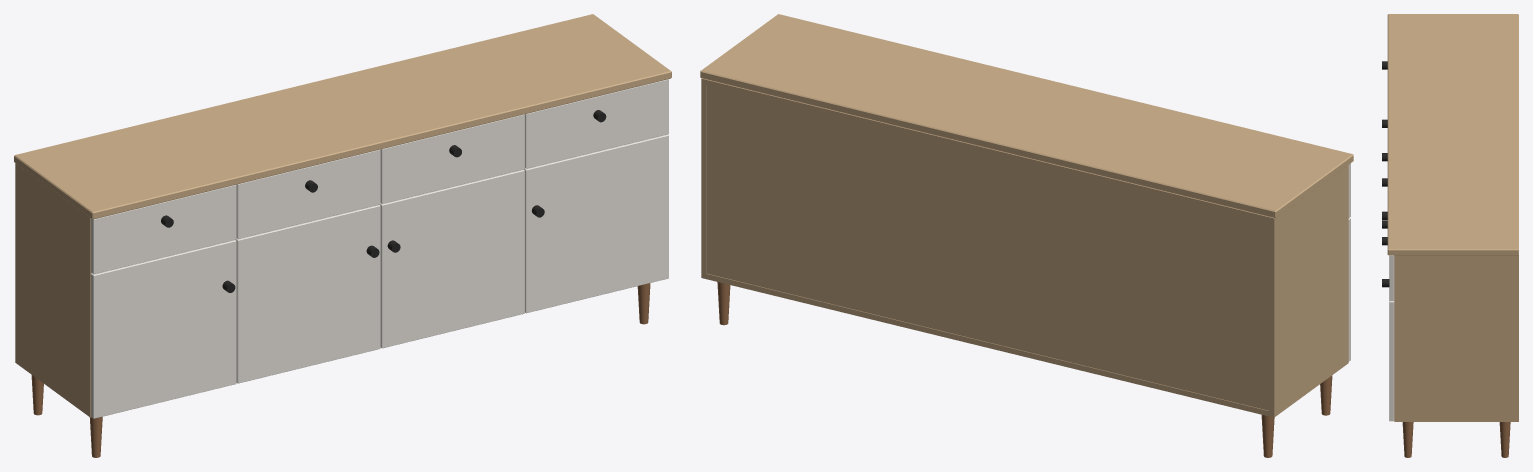
The model's file is 30_komoda_200_4d_sz.glb.
The picture shows the model from 3 angles, left to right: view 1: azimuth 30°, elevation 25°; view 2: azimuth 150°, elevation 25°; view 3: azimuth 270°, elevation 25°; orthographic projection. The views are drawn at different scales.
Visible parts, largest first — view 1: Wierzch, Front_drzwi_2, Front_drzwi_6, Front_drzwi_4, Front_drzwi_8, Korpus, Front_szuflada_1, Front_szuflada_5, Front_szuflada_3, Front_szuflada_7, Nogi, Uchwyty; view 2: Korpus, Wierzch, Nogi; view 3: Wierzch, Korpus, Front_drzwi_8, Nogi, Uchwyty, Front_szuflada_7.
Part boxes in pixels (<box>): Wierzch: <box>14,14,671,219</box>; Front_drzwi_2: <box>91,240,236,418</box>; Front_drzwi_6: <box>380,169,524,348</box>; Front_drzwi_4: <box>235,204,380,383</box>; Front_drzwi_8: <box>524,134,668,313</box>; Korpus: <box>15,163,91,417</box>; Front_szuflada_1: <box>91,184,236,274</box>; Front_szuflada_5: <box>380,114,524,203</box>; Front_szuflada_3: <box>236,149,380,238</box>; Front_szuflada_7: <box>525,79,668,168</box>; Nogi: <box>31,283,650,457</box>; Uchwyty: <box>161,110,606,292</box>; Korpus: <box>701,78,1348,417</box>; Wierzch: <box>700,14,1353,218</box>; Nogi: <box>717,282,1332,457</box>; Wierzch: <box>1387,14,1518,255</box>; Korpus: <box>1394,255,1518,421</box>; Front_drzwi_8: <box>1389,301,1394,421</box>; Nogi: <box>1402,422,1510,457</box>; Uchwyty: <box>1382,61,1389,287</box>; Front_szuflada_7: <box>1389,255,1394,300</box>.
Bounding box in the file's own units: 2.01 × 0.85 × 0.494.
